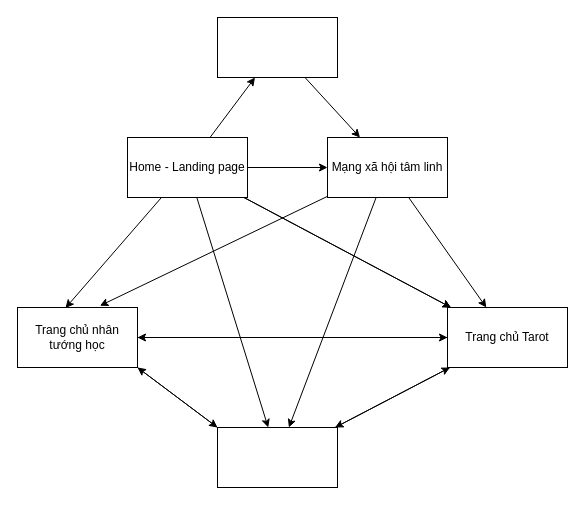
Image size: 585x505. Some labels were removed from this diagram. Each missing label, with the centre of its shape:
"Login/Signup" goes at (277,47).
"Trang chủ tử vi" goes at (277,457).
